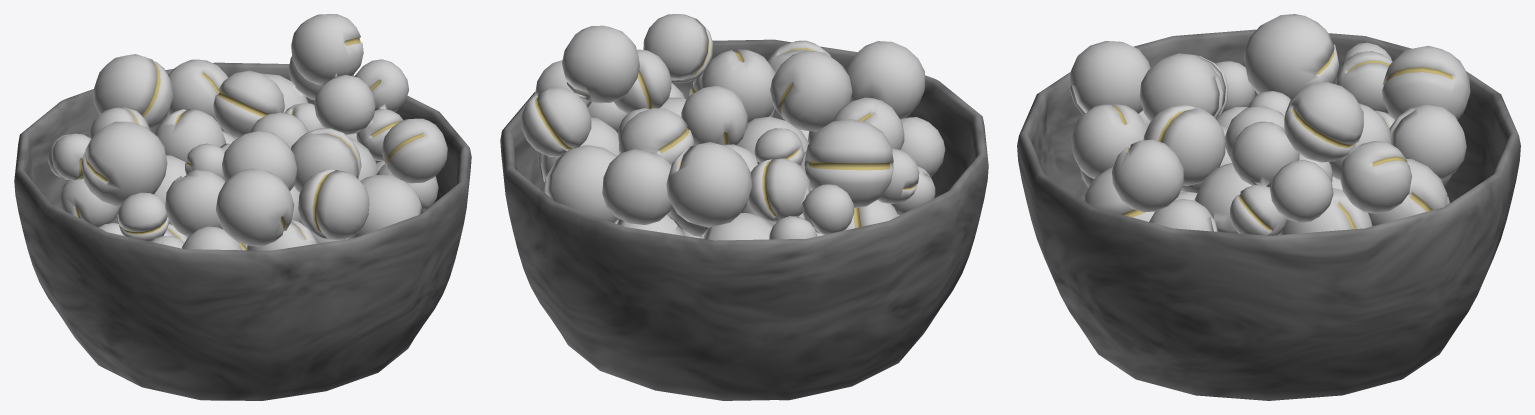
Rendered from nuts9.fbx.
3 views of the same model, side by side, from view 1: azimuth 30°, elevation 25°; view 2: azimuth 150°, elevation 25°; view 3: azimuth 270°, elevation 25° (orthographic). The views are drawn at different scales.
Parts seen in each view (by area): view 1: Plane, Cube.004, Cube.008, Cube.003; view 2: Plane, Cube.004, Cube.008, Cube.003; view 3: Plane, Cube.004, Cube.008.
Boxes of the visible parts, box(x1,y1,x2,y2) form: Plane: box(14, 62, 471, 400); Cube.004: box(52, 14, 447, 246); Cube.008: box(48, 109, 438, 250); Cube.003: box(98, 222, 346, 243); Plane: box(500, 39, 988, 400); Cube.004: box(521, 14, 925, 234); Cube.008: box(538, 72, 945, 240); Cube.003: box(682, 130, 898, 238); Plane: box(1017, 29, 1520, 400); Cube.004: box(1069, 14, 1470, 235); Cube.008: box(1080, 61, 1451, 234).
Size of the model in its own units: 112 by 74.99 by 112.
